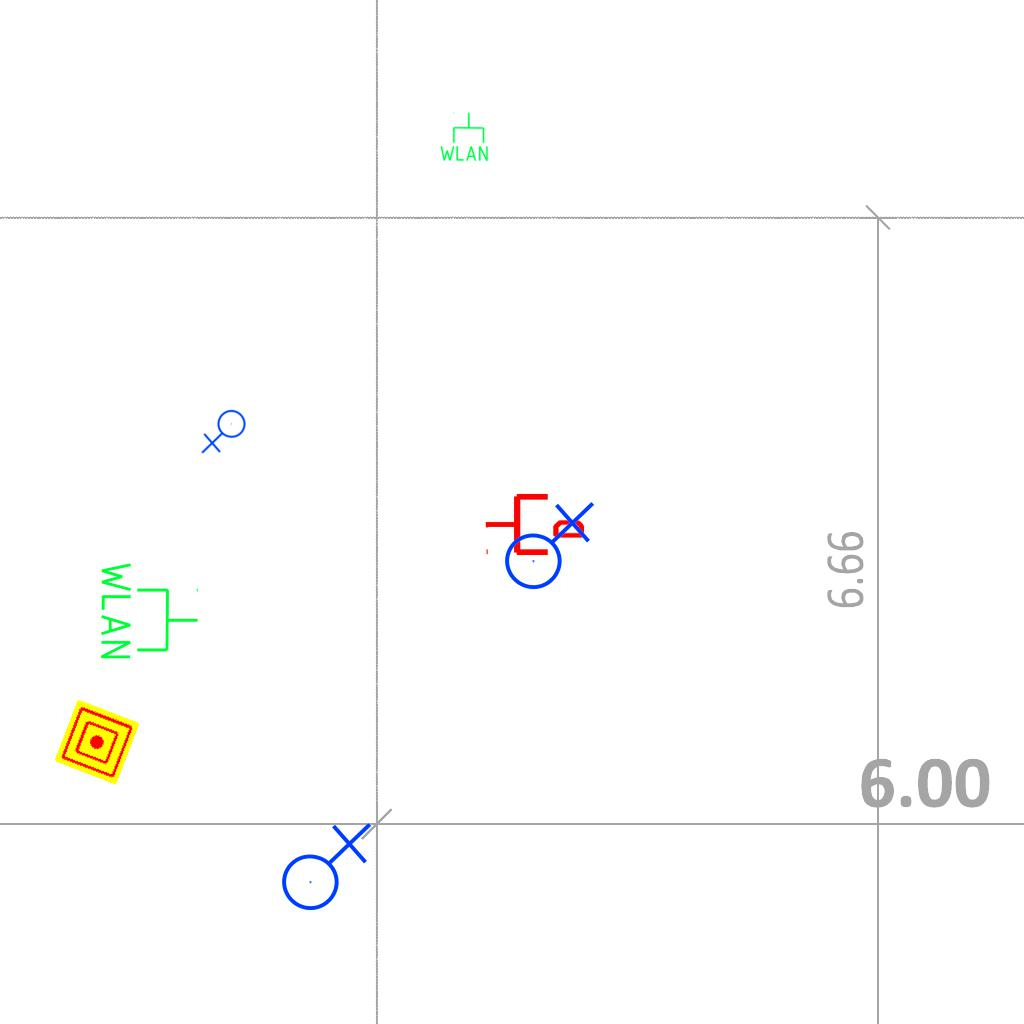Datenanschluss_einfach: (484, 490, 584, 559)
Elektroanschluss_allgemein_230V_Geraeteanschlussdose_230V: (273, 818, 372, 912), (496, 497, 595, 591), (201, 409, 250, 456)
NAM-Nichtautomatischer_Melder: (54, 699, 140, 785)
WLAN: (97, 558, 201, 663), (438, 111, 490, 163)
